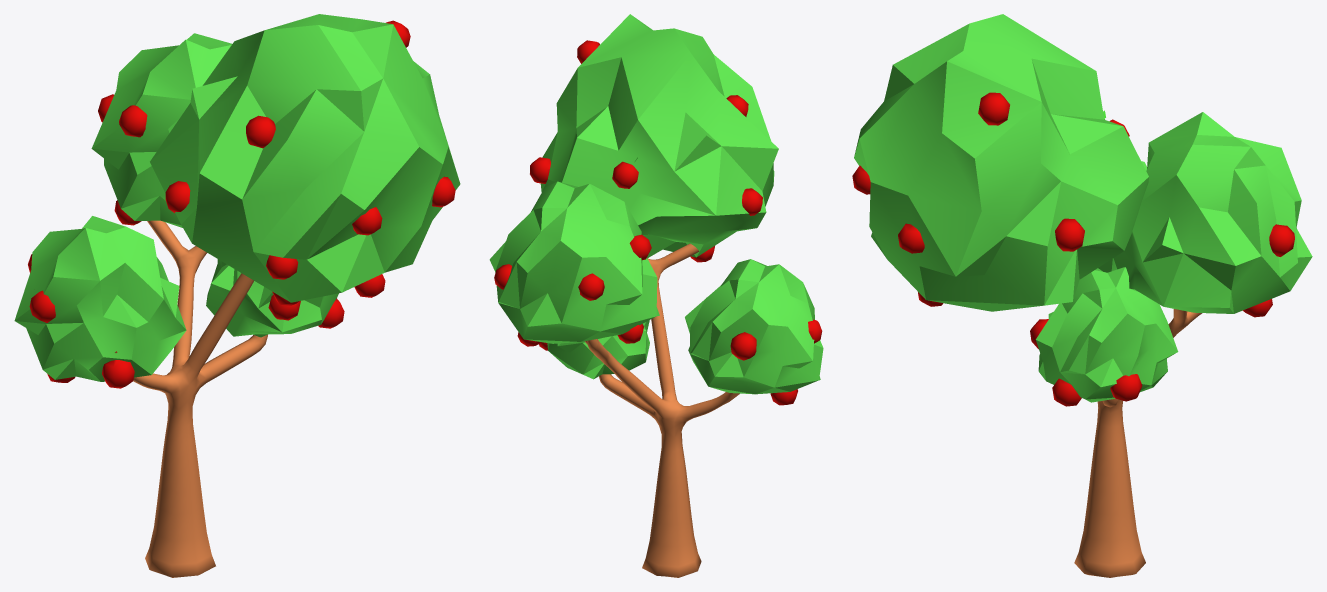
File: apple tree.fbx
The picture shows the model from 3 angles, left to right: view 1: azimuth 30°, elevation 25°; view 2: azimuth 150°, elevation 25°; view 3: azimuth 270°, elevation 25°; orthographic projection. The views are drawn at different scales.
Visible parts, largest first — view 1: Leaves, Leaves3, Tree, Leaves2, Leaves4, Cube.001, Cube.019, Cube.003, Cube.018, Cube.010, Cube.002, Cube.009; view 2: Leaves, Leaves2, Leaves3, Tree, Leaves4, Cube.006, Cube.020, Cube.005, Cube.012, Cube.018; view 3: Leaves, Leaves2, Leaves4, Tree, Cube.021, Cube.012, Cube.007, Cube.016, Cube.011.
Boxes of the visible parts, bbox=[...] form: Leaves: bbox=[150, 14, 460, 302]; Leaves3: bbox=[14, 216, 186, 381]; Tree: bbox=[133, 220, 267, 577]; Leaves2: bbox=[91, 33, 231, 227]; Leaves4: bbox=[206, 259, 338, 337]; Cube.001: bbox=[102, 351, 134, 388]; Cube.019: bbox=[246, 115, 275, 148]; Cube.003: bbox=[119, 105, 147, 137]; Cube.018: bbox=[165, 181, 190, 212]; Cube.010: bbox=[266, 255, 298, 279]; Cube.002: bbox=[29, 290, 55, 322]; Cube.009: bbox=[352, 207, 382, 235]; Leaves: bbox=[540, 14, 778, 258]; Leaves2: bbox=[489, 181, 659, 343]; Leaves3: bbox=[685, 259, 823, 394]; Tree: bbox=[585, 243, 739, 577]; Leaves4: bbox=[547, 320, 649, 379]; Cube.006: bbox=[730, 332, 756, 360]; Cube.020: bbox=[612, 157, 638, 188]; Cube.005: bbox=[578, 273, 604, 300]; Cube.012: bbox=[530, 157, 550, 183]; Cube.018: bbox=[742, 188, 762, 215]; Leaves: bbox=[854, 14, 1148, 311]; Leaves2: bbox=[1113, 112, 1312, 313]; Leaves4: bbox=[1035, 267, 1178, 402]; Tree: bbox=[1074, 309, 1202, 577]; Cube.021: bbox=[978, 92, 1009, 125]; Cube.012: bbox=[1055, 218, 1084, 251]; Cube.007: bbox=[1269, 224, 1294, 256]; Cube.016: bbox=[1110, 363, 1142, 401]; Cube.011: bbox=[898, 223, 924, 253].
Size of the model in its own units: 431 by 641 by 464.
